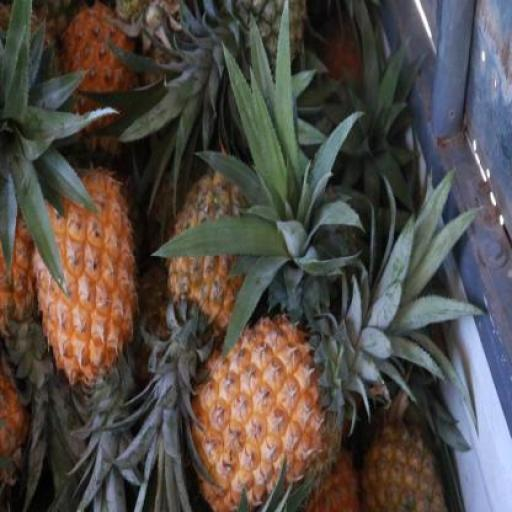Pineapple - v8 v1: (188, 306, 331, 511), (33, 163, 145, 390)
